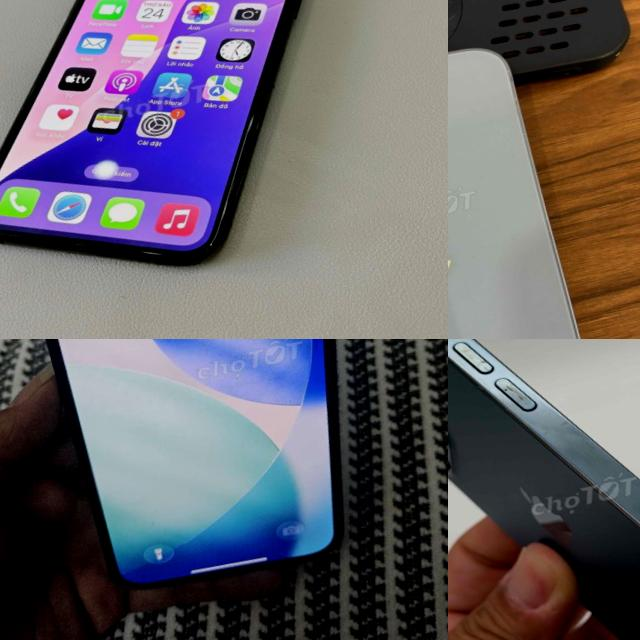gen_12_13: (3, 339, 395, 615), (448, 339, 640, 640)
gen_14: (448, 24, 619, 339)
gen_x_xs: (0, 0, 300, 263)
